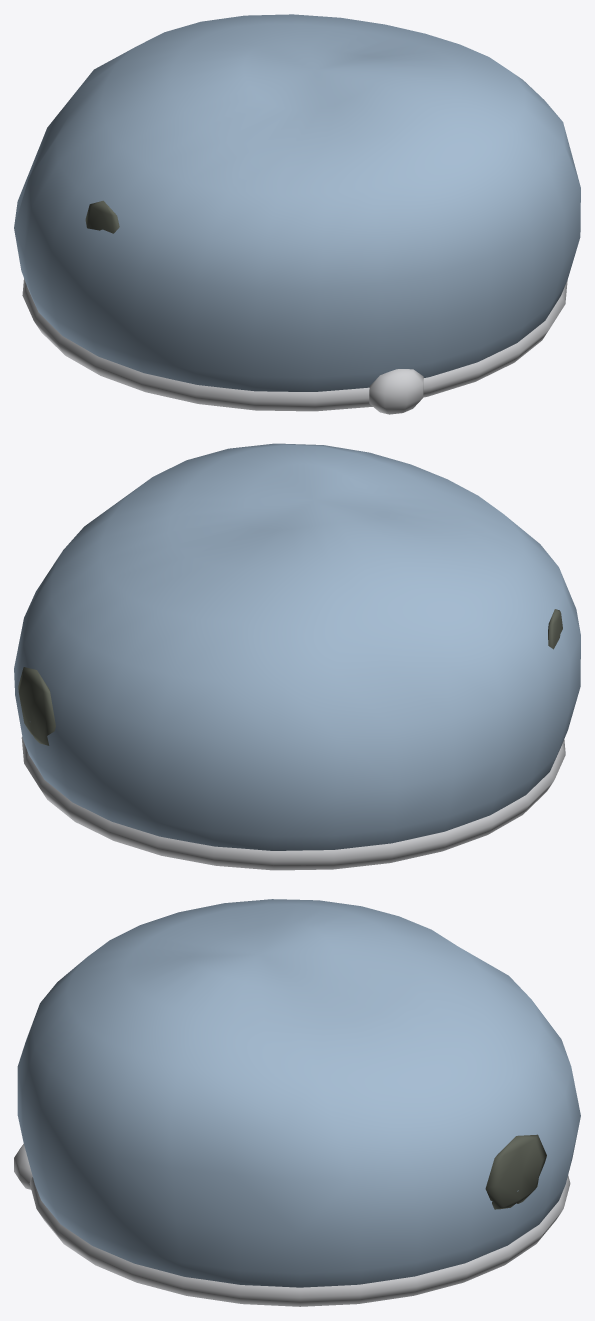
Rendered from hat_hairnet.glb.
The picture shows the model from 3 angles, top to bottom: view 1: azimuth 30°, elevation 25°; view 2: azimuth 150°, elevation 25°; view 3: azimuth 270°, elevation 25°; orthographic projection.
Parts seen in each view (by area): view 1: Hat; view 2: Hat; view 3: Hat.
Boxes of the visible parts, x1,y1,x2,y2 form: Hat: [14, 14, 580, 414]; Hat: [14, 443, 580, 870]; Hat: [14, 899, 580, 1306].
Size of the model in its own units: 0.7039 by 0.3503 by 0.7088.
